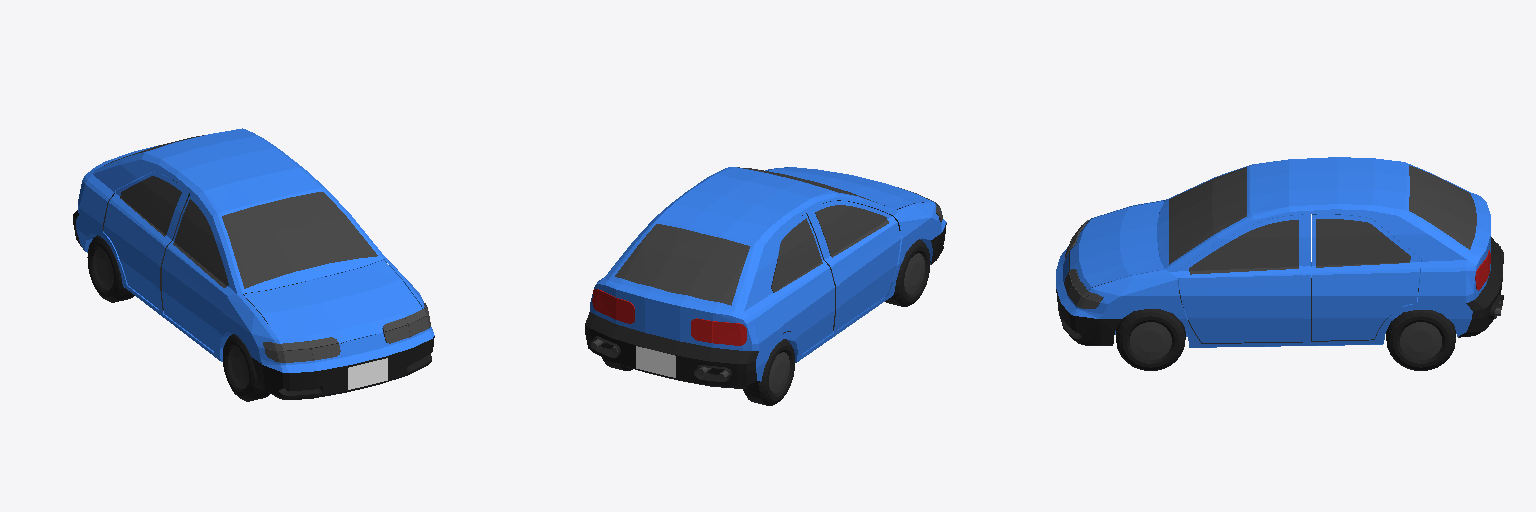
File: base_pretextured.obj
The picture shows the model from 3 angles: view 1: azimuth 30°, elevation 25°; view 2: azimuth 150°, elevation 25°; view 3: azimuth 270°, elevation 25°; orthographic projection.
Visible parts, largest first — view 1: BODY, FRONTWINDOWGLASS, HOOD, FRONTDOORS, REARDOORS, FRONTBUMPER, HEADLIGHTS, TYRES, FRONTWINDOWS, BACKWINDOWS, WHEELS, LICENSEPLATE; view 2: BODY, REARWINDOWGLASS, REARBUMPER, FRONTDOORS, REARDOORS, TYRES, HOOD, FRONTWINDOWS, TAILLIGHTS, BACKWINDOWS, WHEELS, LICENSEPLATE; view 3: BODY, FRONTDOORS, REARDOORS, HOOD, FRONTWINDOWGLASS, TYRES, FRONTWINDOWS, BACKWINDOWS, REARWINDOWGLASS, WHEELS, REARBUMPER, FRONTBUMPER (+1 smaller).
Part boxes in pixels (x1,y1,x2,y2): BODY: (76, 128, 434, 372); FRONTWINDOWGLASS: (222, 192, 377, 288); HOOD: (244, 260, 421, 344); FRONTDOORS: (162, 193, 386, 350); REARDOORS: (104, 172, 185, 308); FRONTBUMPER: (251, 336, 434, 399); HEADLIGHTS: (263, 303, 430, 362); TYRES: (87, 235, 269, 401); FRONTWINDOWS: (173, 199, 227, 287); BACKWINDOWS: (120, 176, 181, 236); WHEELS: (93, 249, 248, 388); LICENSEPLATE: (348, 358, 387, 389); BODY: (590, 167, 946, 381); REARWINDOWGLASS: (615, 224, 749, 305); REARBUMPER: (585, 312, 759, 388); FRONTDOORS: (811, 201, 900, 328); REARDOORS: (767, 214, 834, 353); TYRES: (602, 239, 930, 405); HOOD: (769, 167, 932, 209); FRONTWINDOWS: (815, 205, 888, 257); TAILLIGHTS: (592, 289, 746, 345); BACKWINDOWS: (771, 218, 822, 292); WHEELS: (769, 253, 924, 392); LICENSEPLATE: (636, 346, 675, 377); BODY: (1056, 157, 1490, 347); FRONTDOORS: (1178, 214, 1302, 342); REARDOORS: (1312, 214, 1420, 340); HOOD: (1070, 201, 1164, 289); FRONTWINDOWGLASS: (1169, 167, 1246, 264); TYRES: (1116, 309, 1455, 370); FRONTWINDOWS: (1189, 220, 1298, 274); BACKWINDOWS: (1316, 219, 1410, 267); REARWINDOWGLASS: (1409, 165, 1476, 249); WHEELS: (1130, 322, 1441, 359); REARBUMPER: (1458, 237, 1503, 337); FRONTBUMPER: (1056, 242, 1121, 345).
Bounding box in the file's own units: 1681 × 1468 × 3888.